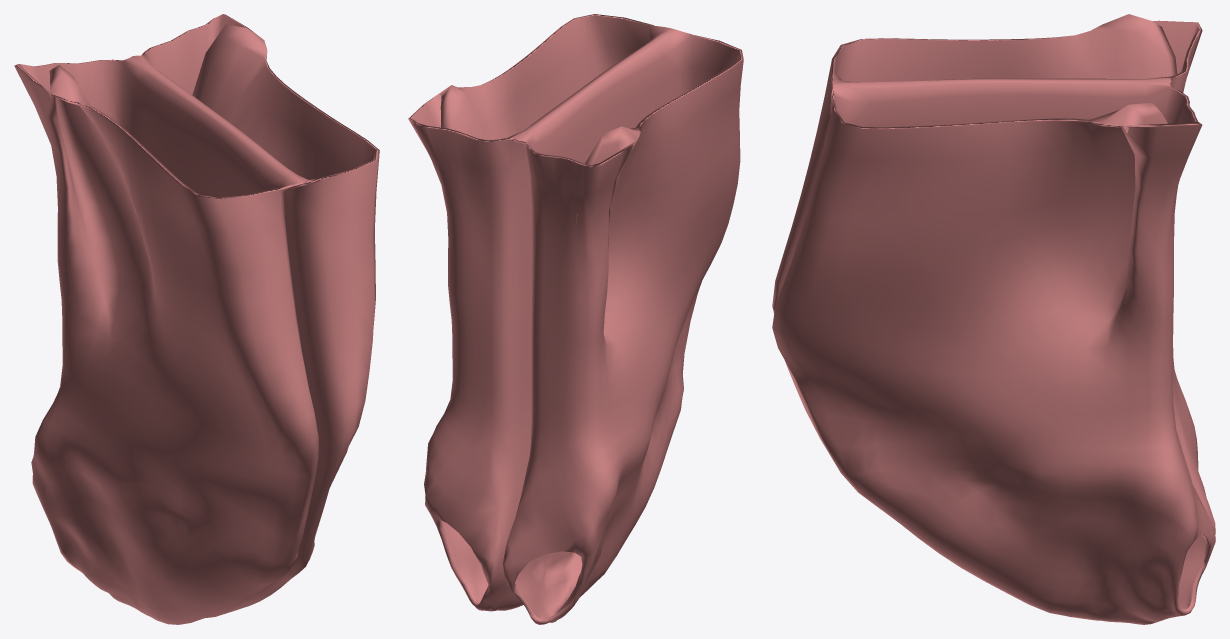
3 renders of one model, left to right at view 1: azimuth 30°, elevation 25°; view 2: azimuth 150°, elevation 25°; view 3: azimuth 270°, elevation 25°, orthographic. The views are drawn at different scales.
Visible parts, largest first — view 1: 鼻腔黏膜; view 2: 鼻腔黏膜; view 3: 鼻腔黏膜.
Boxes of the visible parts, <box> form: 鼻腔黏膜: <box>14,14,379,624</box>; 鼻腔黏膜: <box>408,14,743,624</box>; 鼻腔黏膜: <box>772,14,1215,624</box>.
Bounding box in the file's own units: 0.0402 × 0.0971 × 0.0706.
